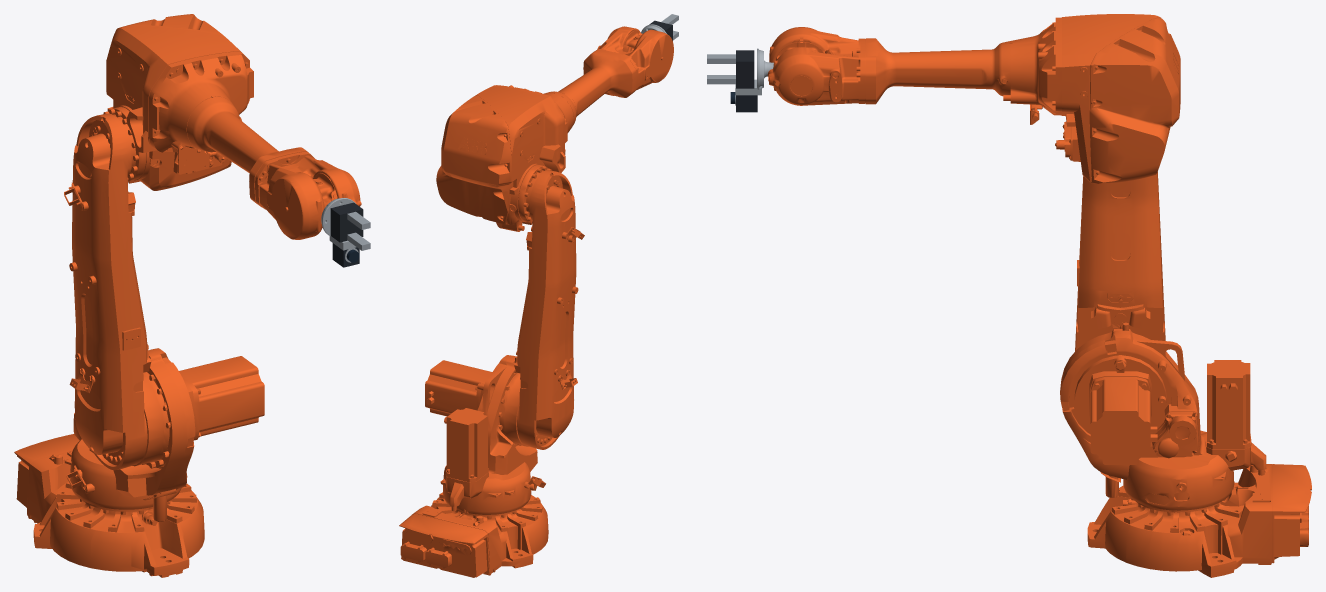
The model's file is irb4600.glb.
3 renders of one model, left to right at view 1: azimuth 30°, elevation 25°; view 2: azimuth 150°, elevation 25°; view 3: azimuth 270°, elevation 25°, orthographic. The views are drawn at different scales.
Visible parts, largest first — view 1: Surface_link_2, Surface_link_3, Surface_link_1, Surface_base_link, Surface_link_4, CustomGripper; view 2: Surface_link_3, Surface_link_2, Surface_link_1, Surface_base_link, Surface_link_4; view 3: Surface_link_1, Surface_link_3, Surface_base_link, Surface_link_2, Surface_link_4.
Part boxes in pixels (box(x1,y1,x2,y2)): Surface_link_2: box(64, 113, 151, 470); Surface_link_3: box(103, 14, 253, 190); Surface_link_1: box(64, 348, 264, 521); Surface_base_link: box(14, 434, 204, 577); Surface_link_4: box(187, 96, 361, 239); CustomGripper: box(330, 202, 363, 242); Surface_link_3: box(436, 85, 573, 231); Surface_link_2: box(514, 170, 584, 449); Surface_link_1: box(425, 355, 545, 519); Surface_base_link: box(399, 492, 548, 577); Surface_link_4: box(548, 26, 673, 126); Surface_link_1: box(1060, 322, 1266, 515); Surface_link_3: box(1003, 14, 1180, 183); Surface_base_link: box(1087, 464, 1311, 577); Surface_link_2: box(1075, 171, 1165, 351); Surface_link_4: box(767, 27, 1010, 105).
Size of the model in its own units: 0.6312 by 1.73 by 1.82.
